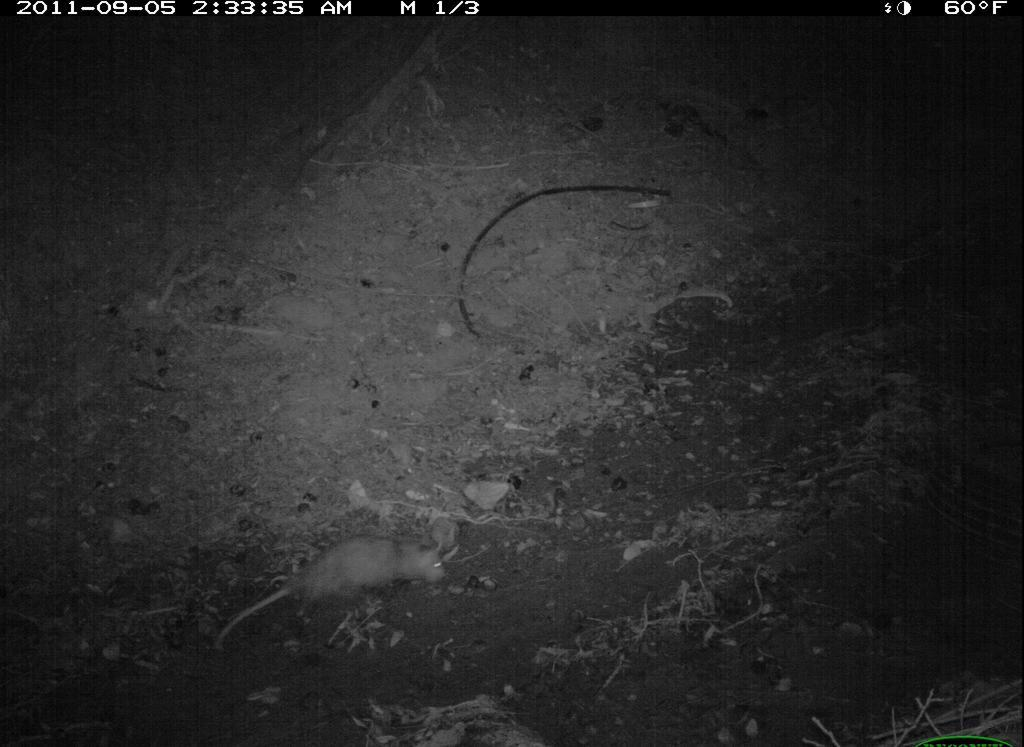opossum: (207, 528, 459, 658)
